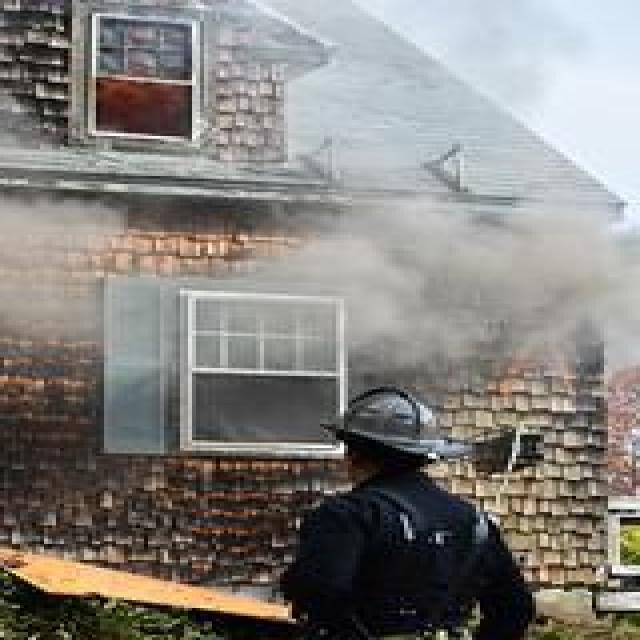smoke: (106, 190, 631, 362)
